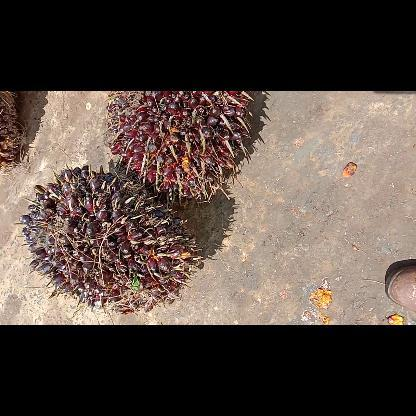TBS mentah: (18, 166, 200, 310), (106, 90, 254, 200)
